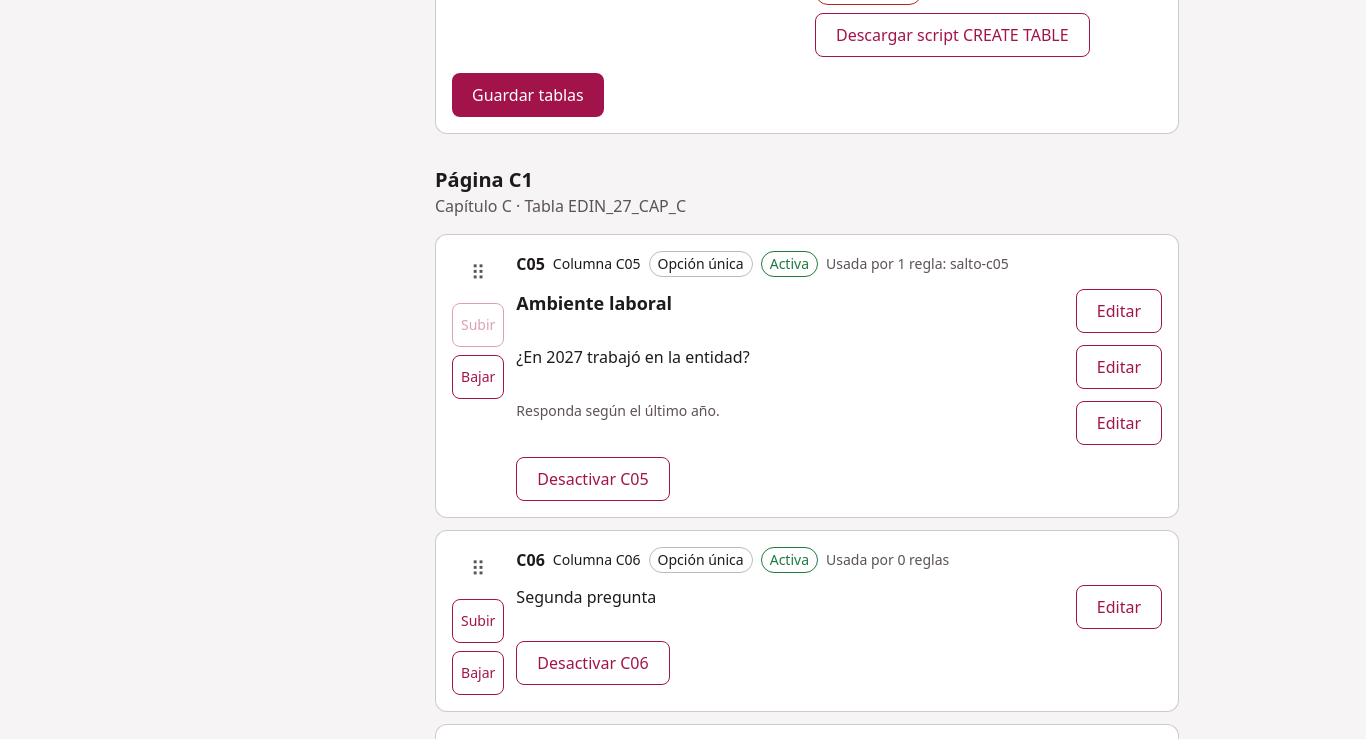
Test: QuestionEditor › editsTextWithVersionAndHandlesConflict
(page scrolled)
Step 1. Click the button with aria-label "Editar texto de C05" → point(1119, 367), box [1076, 345, 1162, 389]
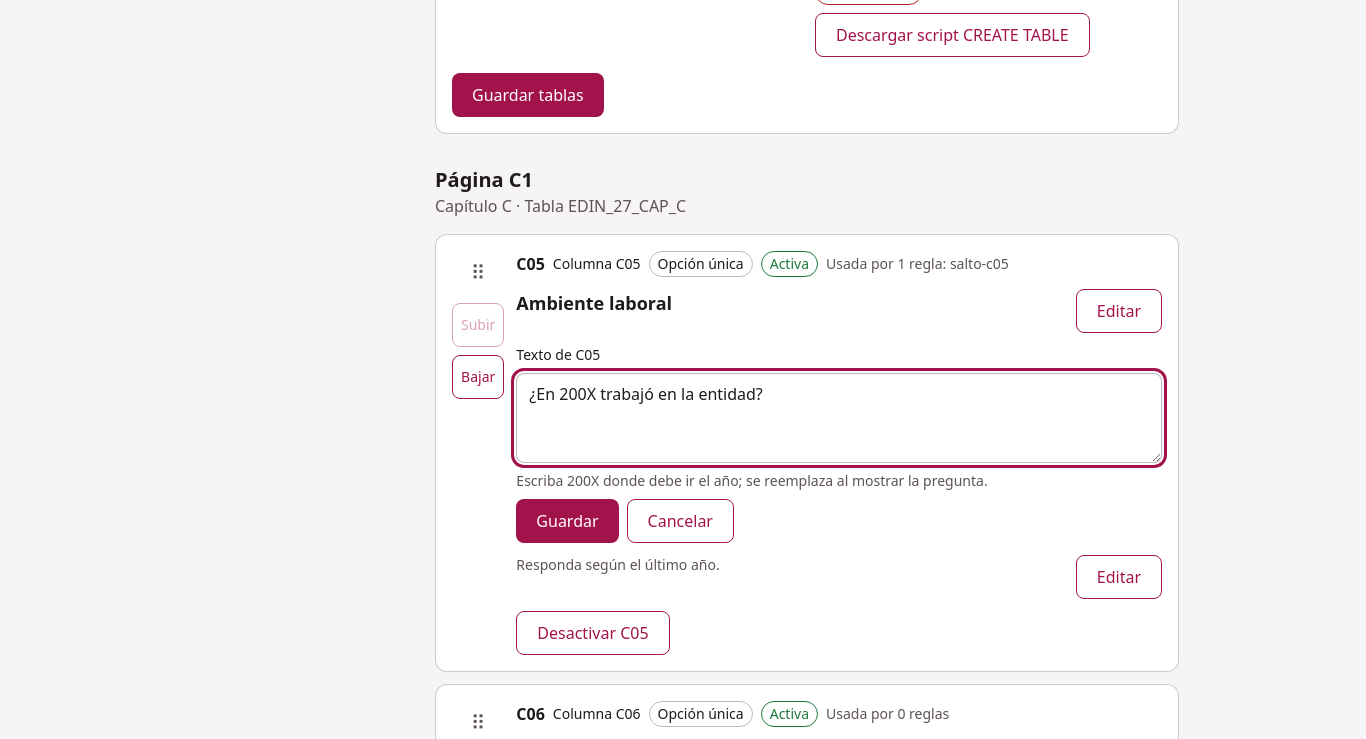
Now the text box labelled "Texto de C05" holds "¿En 200X trabajó en la entidad?"
Step 2. Clear the text box labelled "Texto de C05" → point(839, 418), box [516, 373, 1162, 463]
Step 3. Type keys "¿En 200X laboró?"
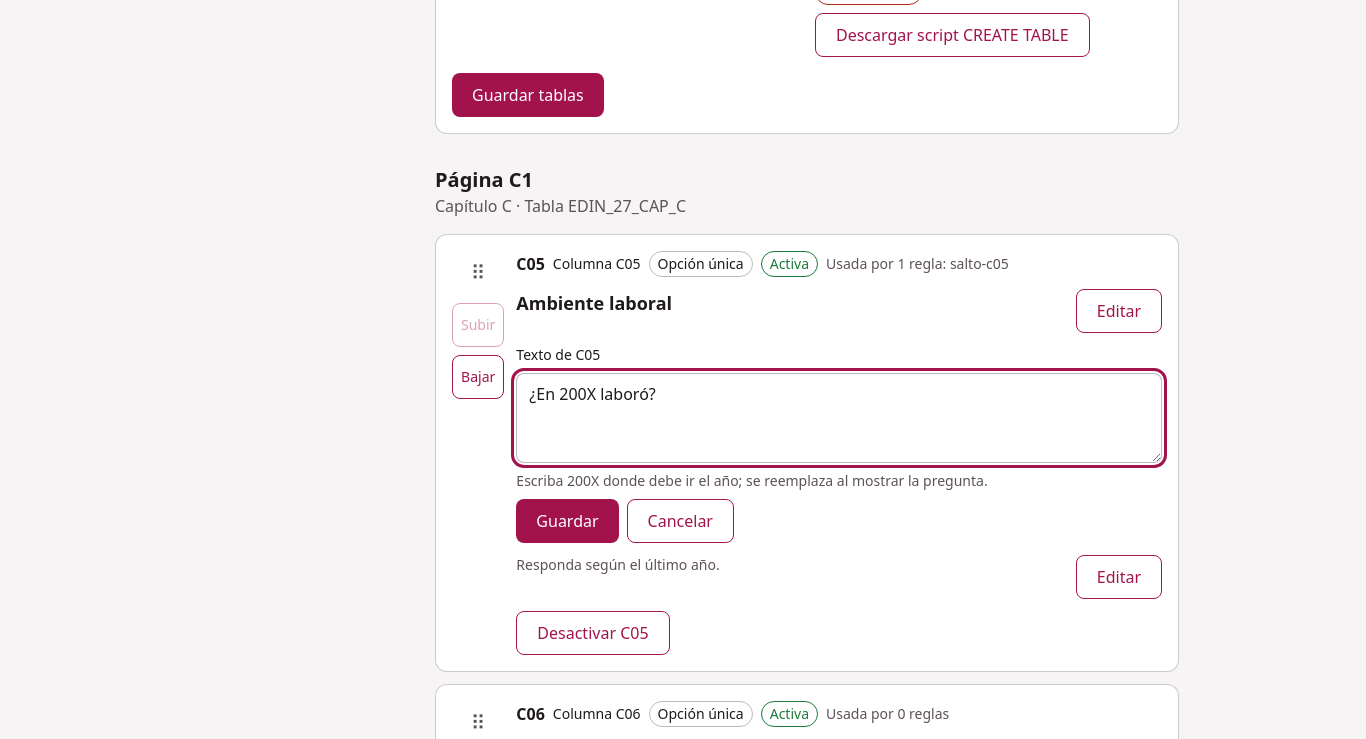
Step 4. Click the button "Guardar" → point(567, 521), box [516, 499, 618, 543]
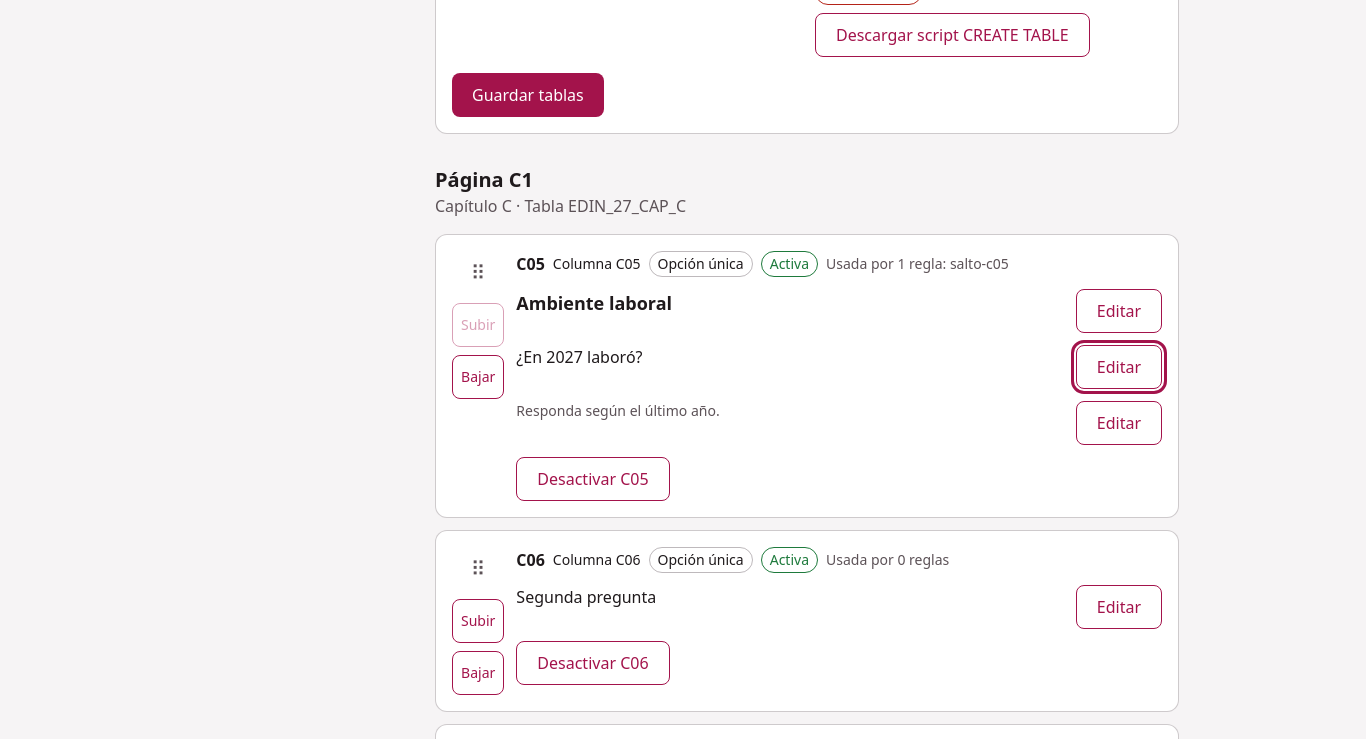
Now the text "¿En 2027 laboró?" is shown, box [516, 346, 642, 368]
Step 5. Click the button with aria-label "Editar texto de C05" → point(1119, 367), box [1076, 345, 1162, 389]
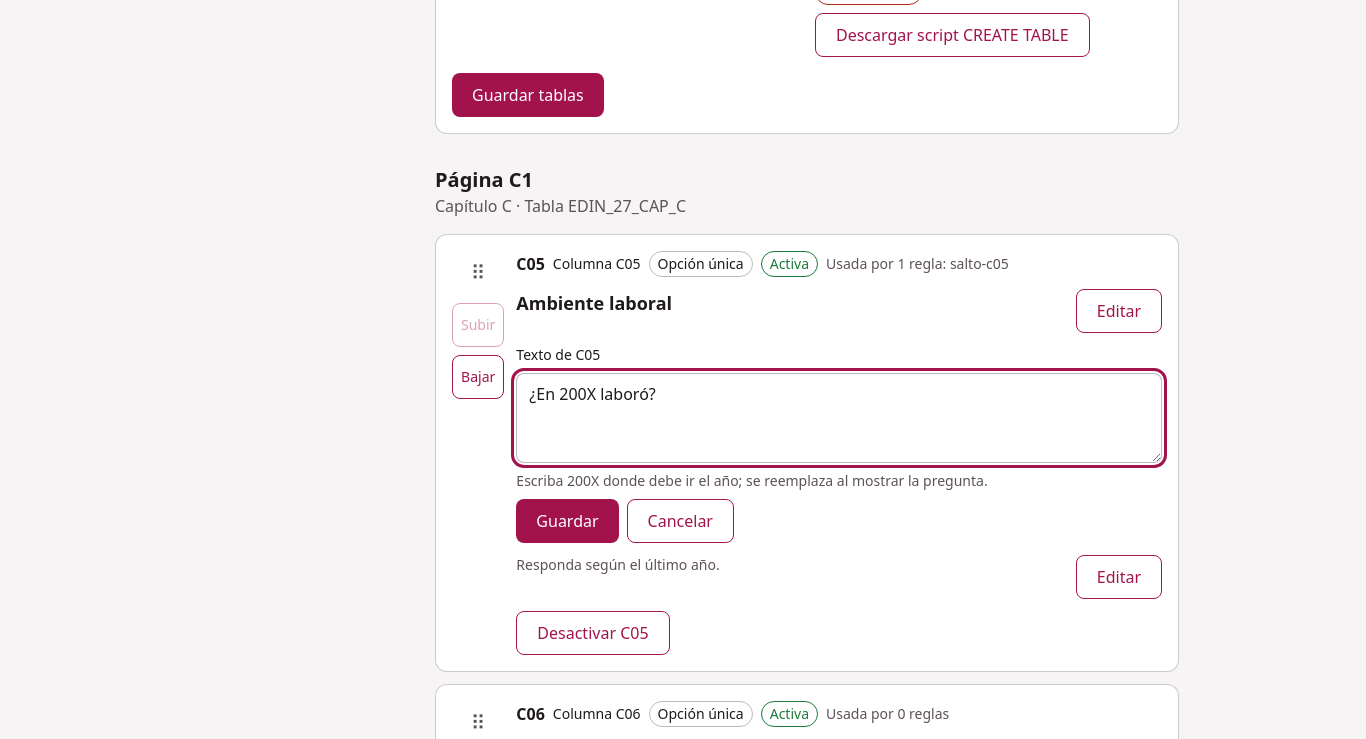
Step 6. Type "!" into the text box labelled "Texto de C05" → point(839, 418), box [516, 373, 1162, 463]
Step 7. Click the button "Guardar" → point(567, 521), box [516, 499, 618, 543]
(page scrolled)
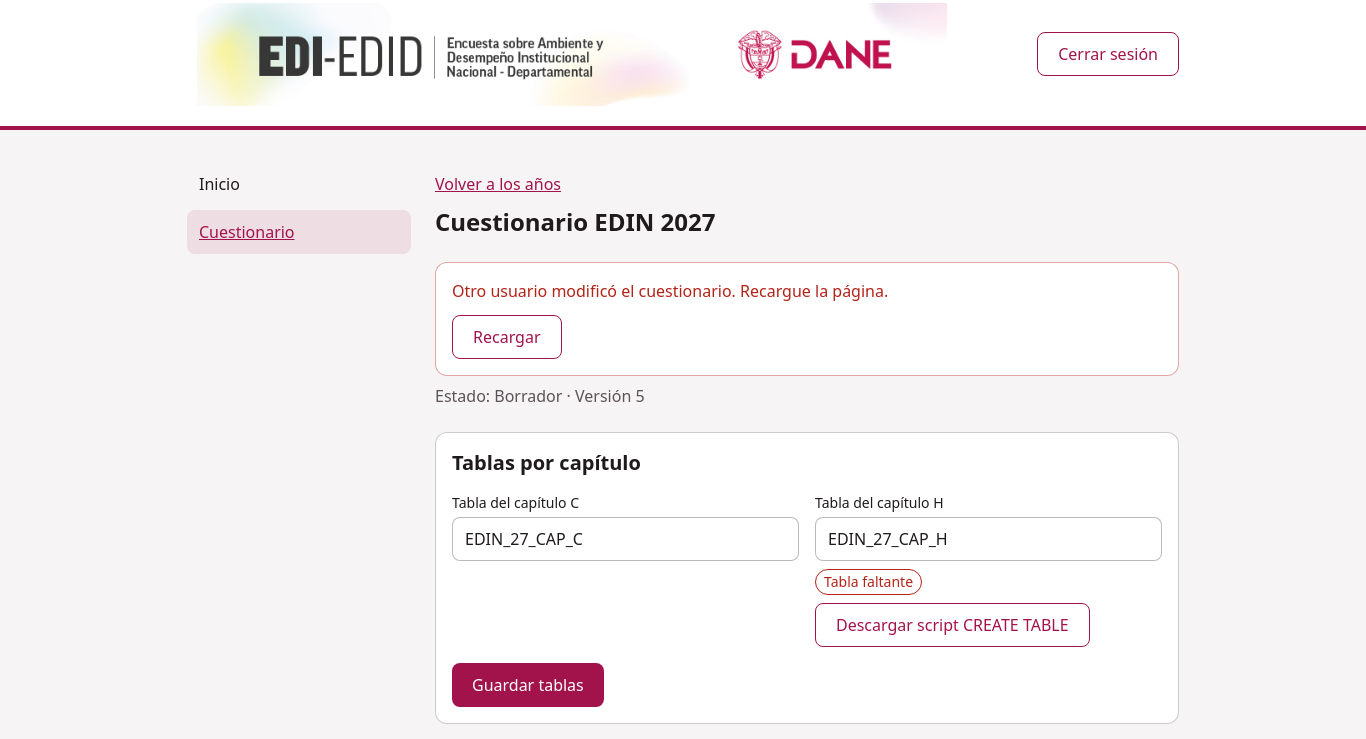
Now the message shows "Otro usuario modificó el cuestionario. Recargue la página.", box [452, 280, 888, 302]
Step 8. Click the button "Recargar" → point(507, 337), box [452, 315, 562, 359]
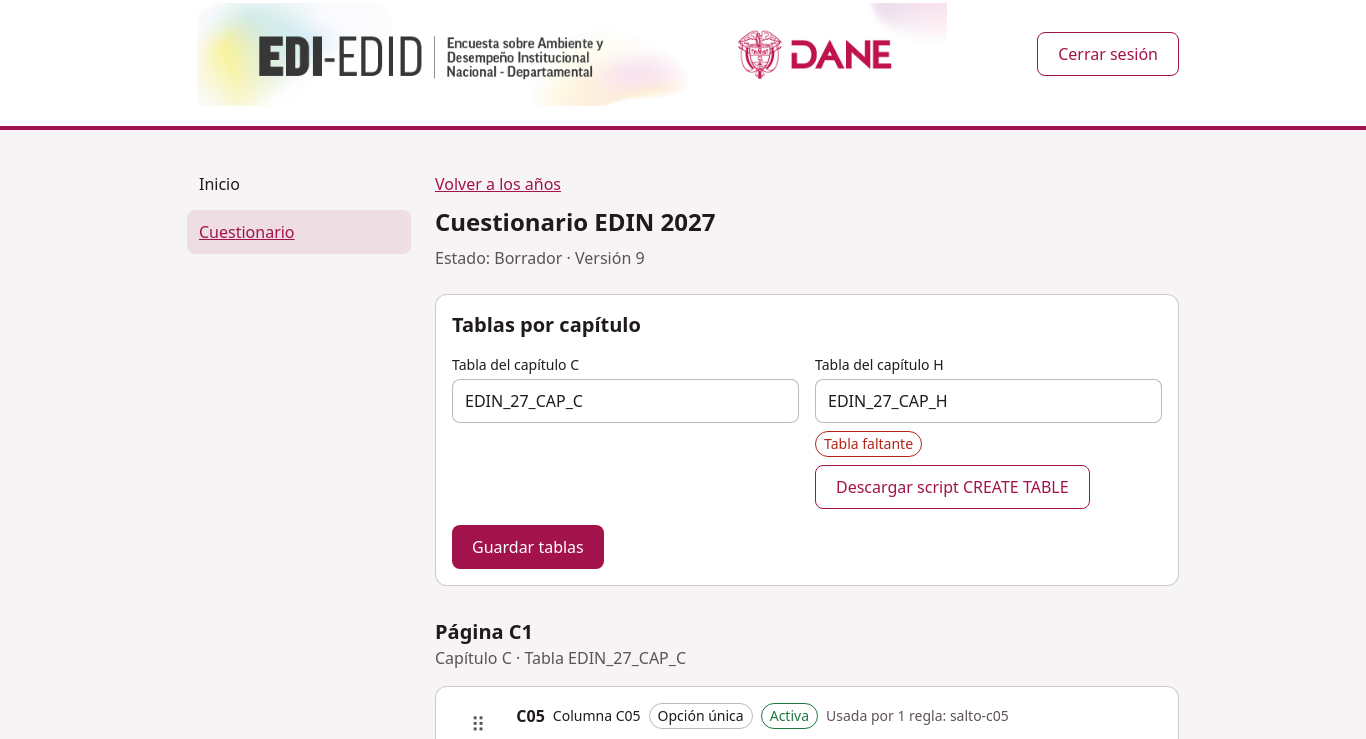
Now the text "Versión 9" is shown, box [575, 247, 645, 269]
Now the message "Otro usuario modificó el cuestionario. Recargue la página. Recargar" is gone
